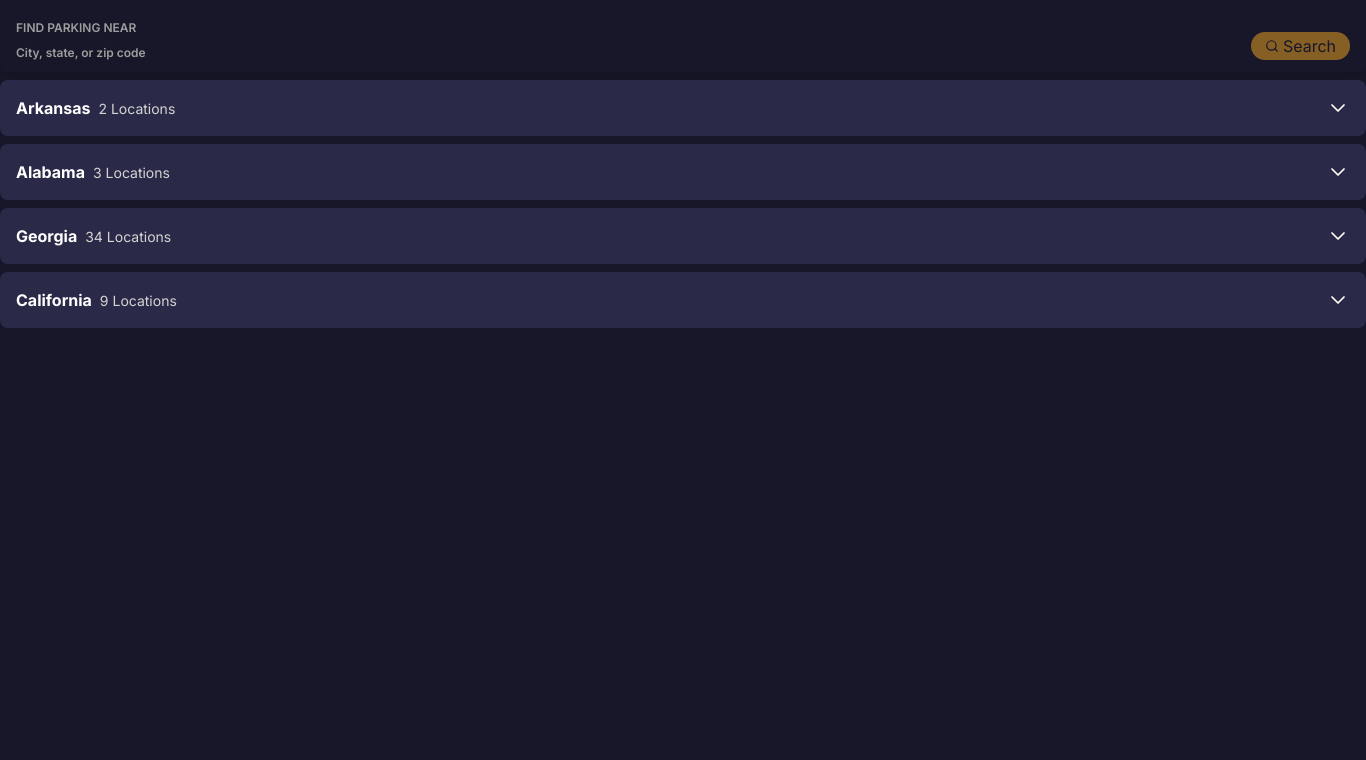
Test: LocationsAccordion › matches a city, address, or zip code from the static location data
The image size is (1366, 760).
Type "33169" into the search field labelled "Find parking near" at [627, 52], box 16,40 -> 1239,64
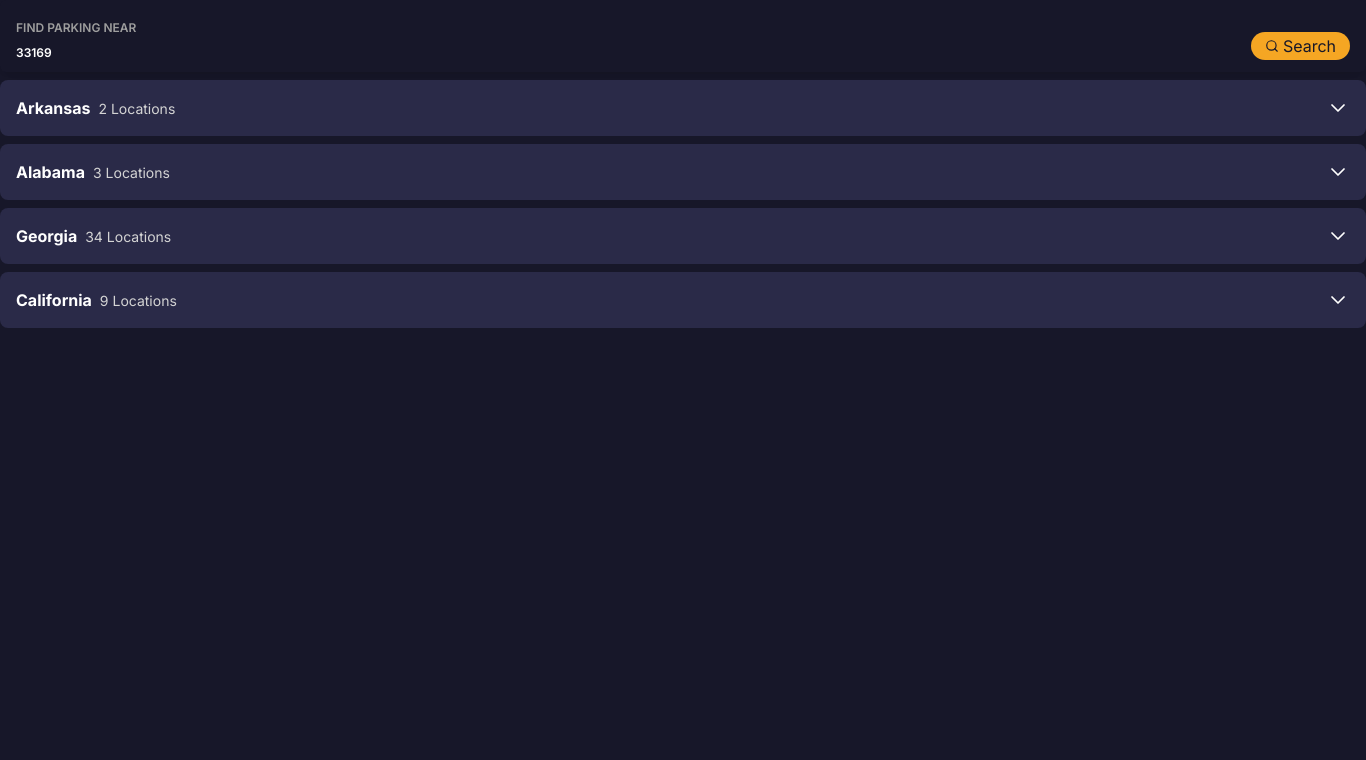
Submit the form, box 0,0 -> 1365,72
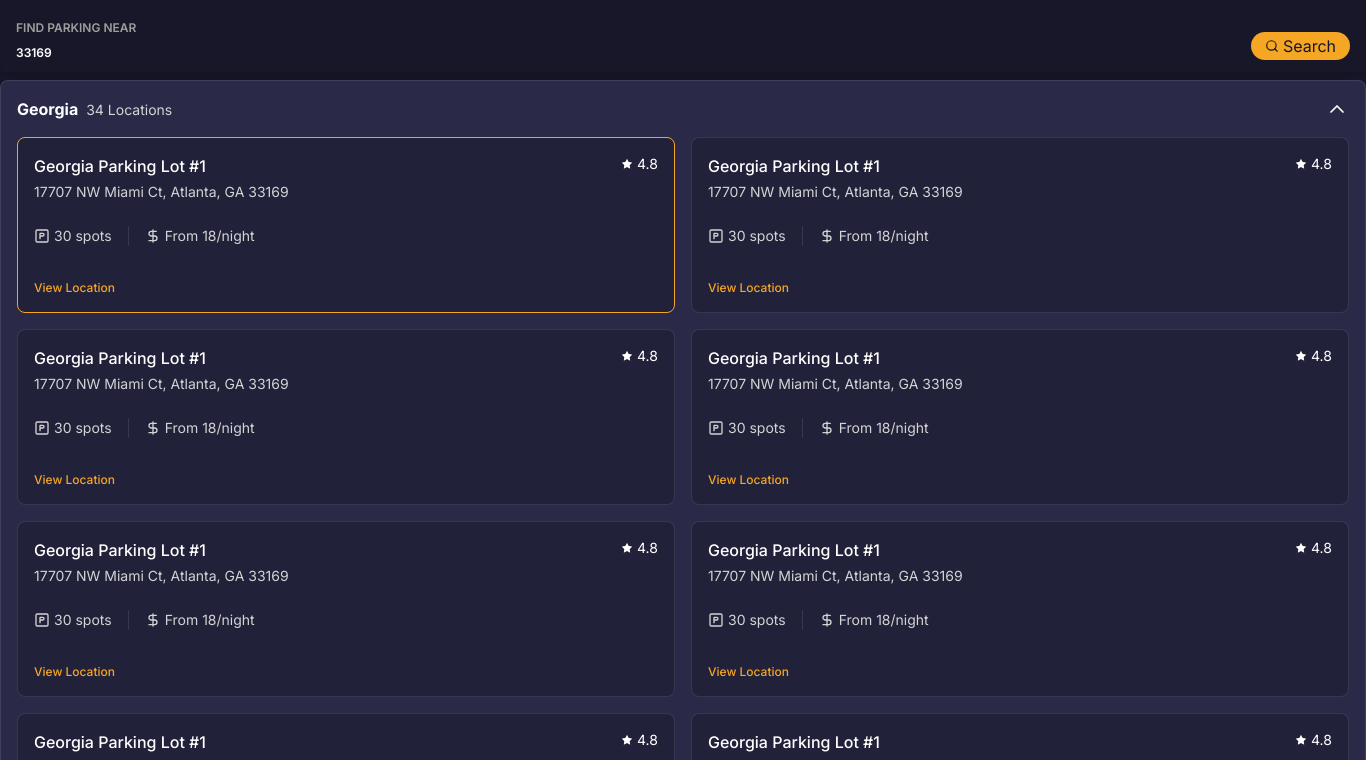
Result: the button with aria-label "Georgia, 34 Locations" is expanded at 17,97 -> 1349,121
Result: the text "17707 NW Miami Ct, Atlanta, GA 33169" is shown 13 times
